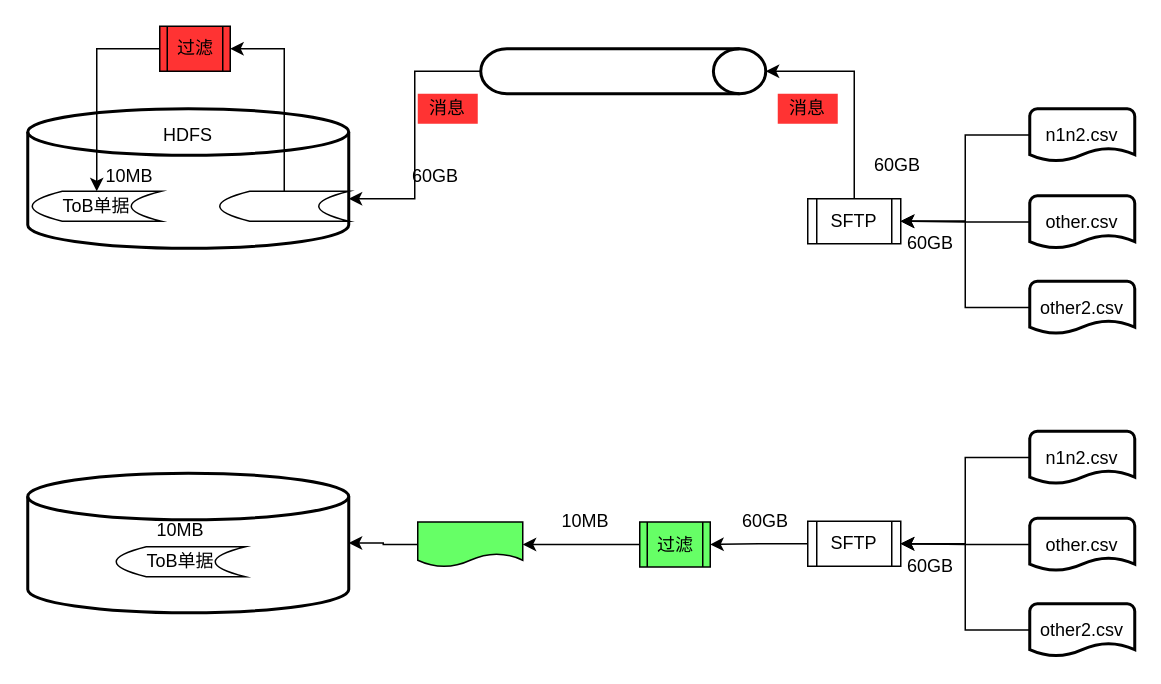
Image size: 1161x684. Some labels were removed from this diagram. Each missing label, with the centre of its shape:
"Kafka" goes at point (622, 70).
"全量数据" goes at point (283, 205).
"文件" goes at point (469, 543).
